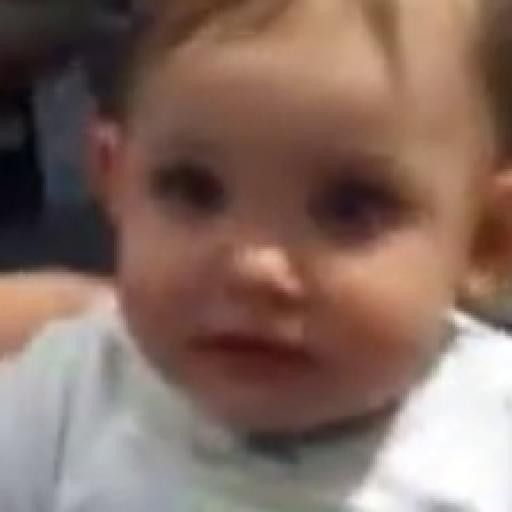Autism: (130, 47, 441, 484)
